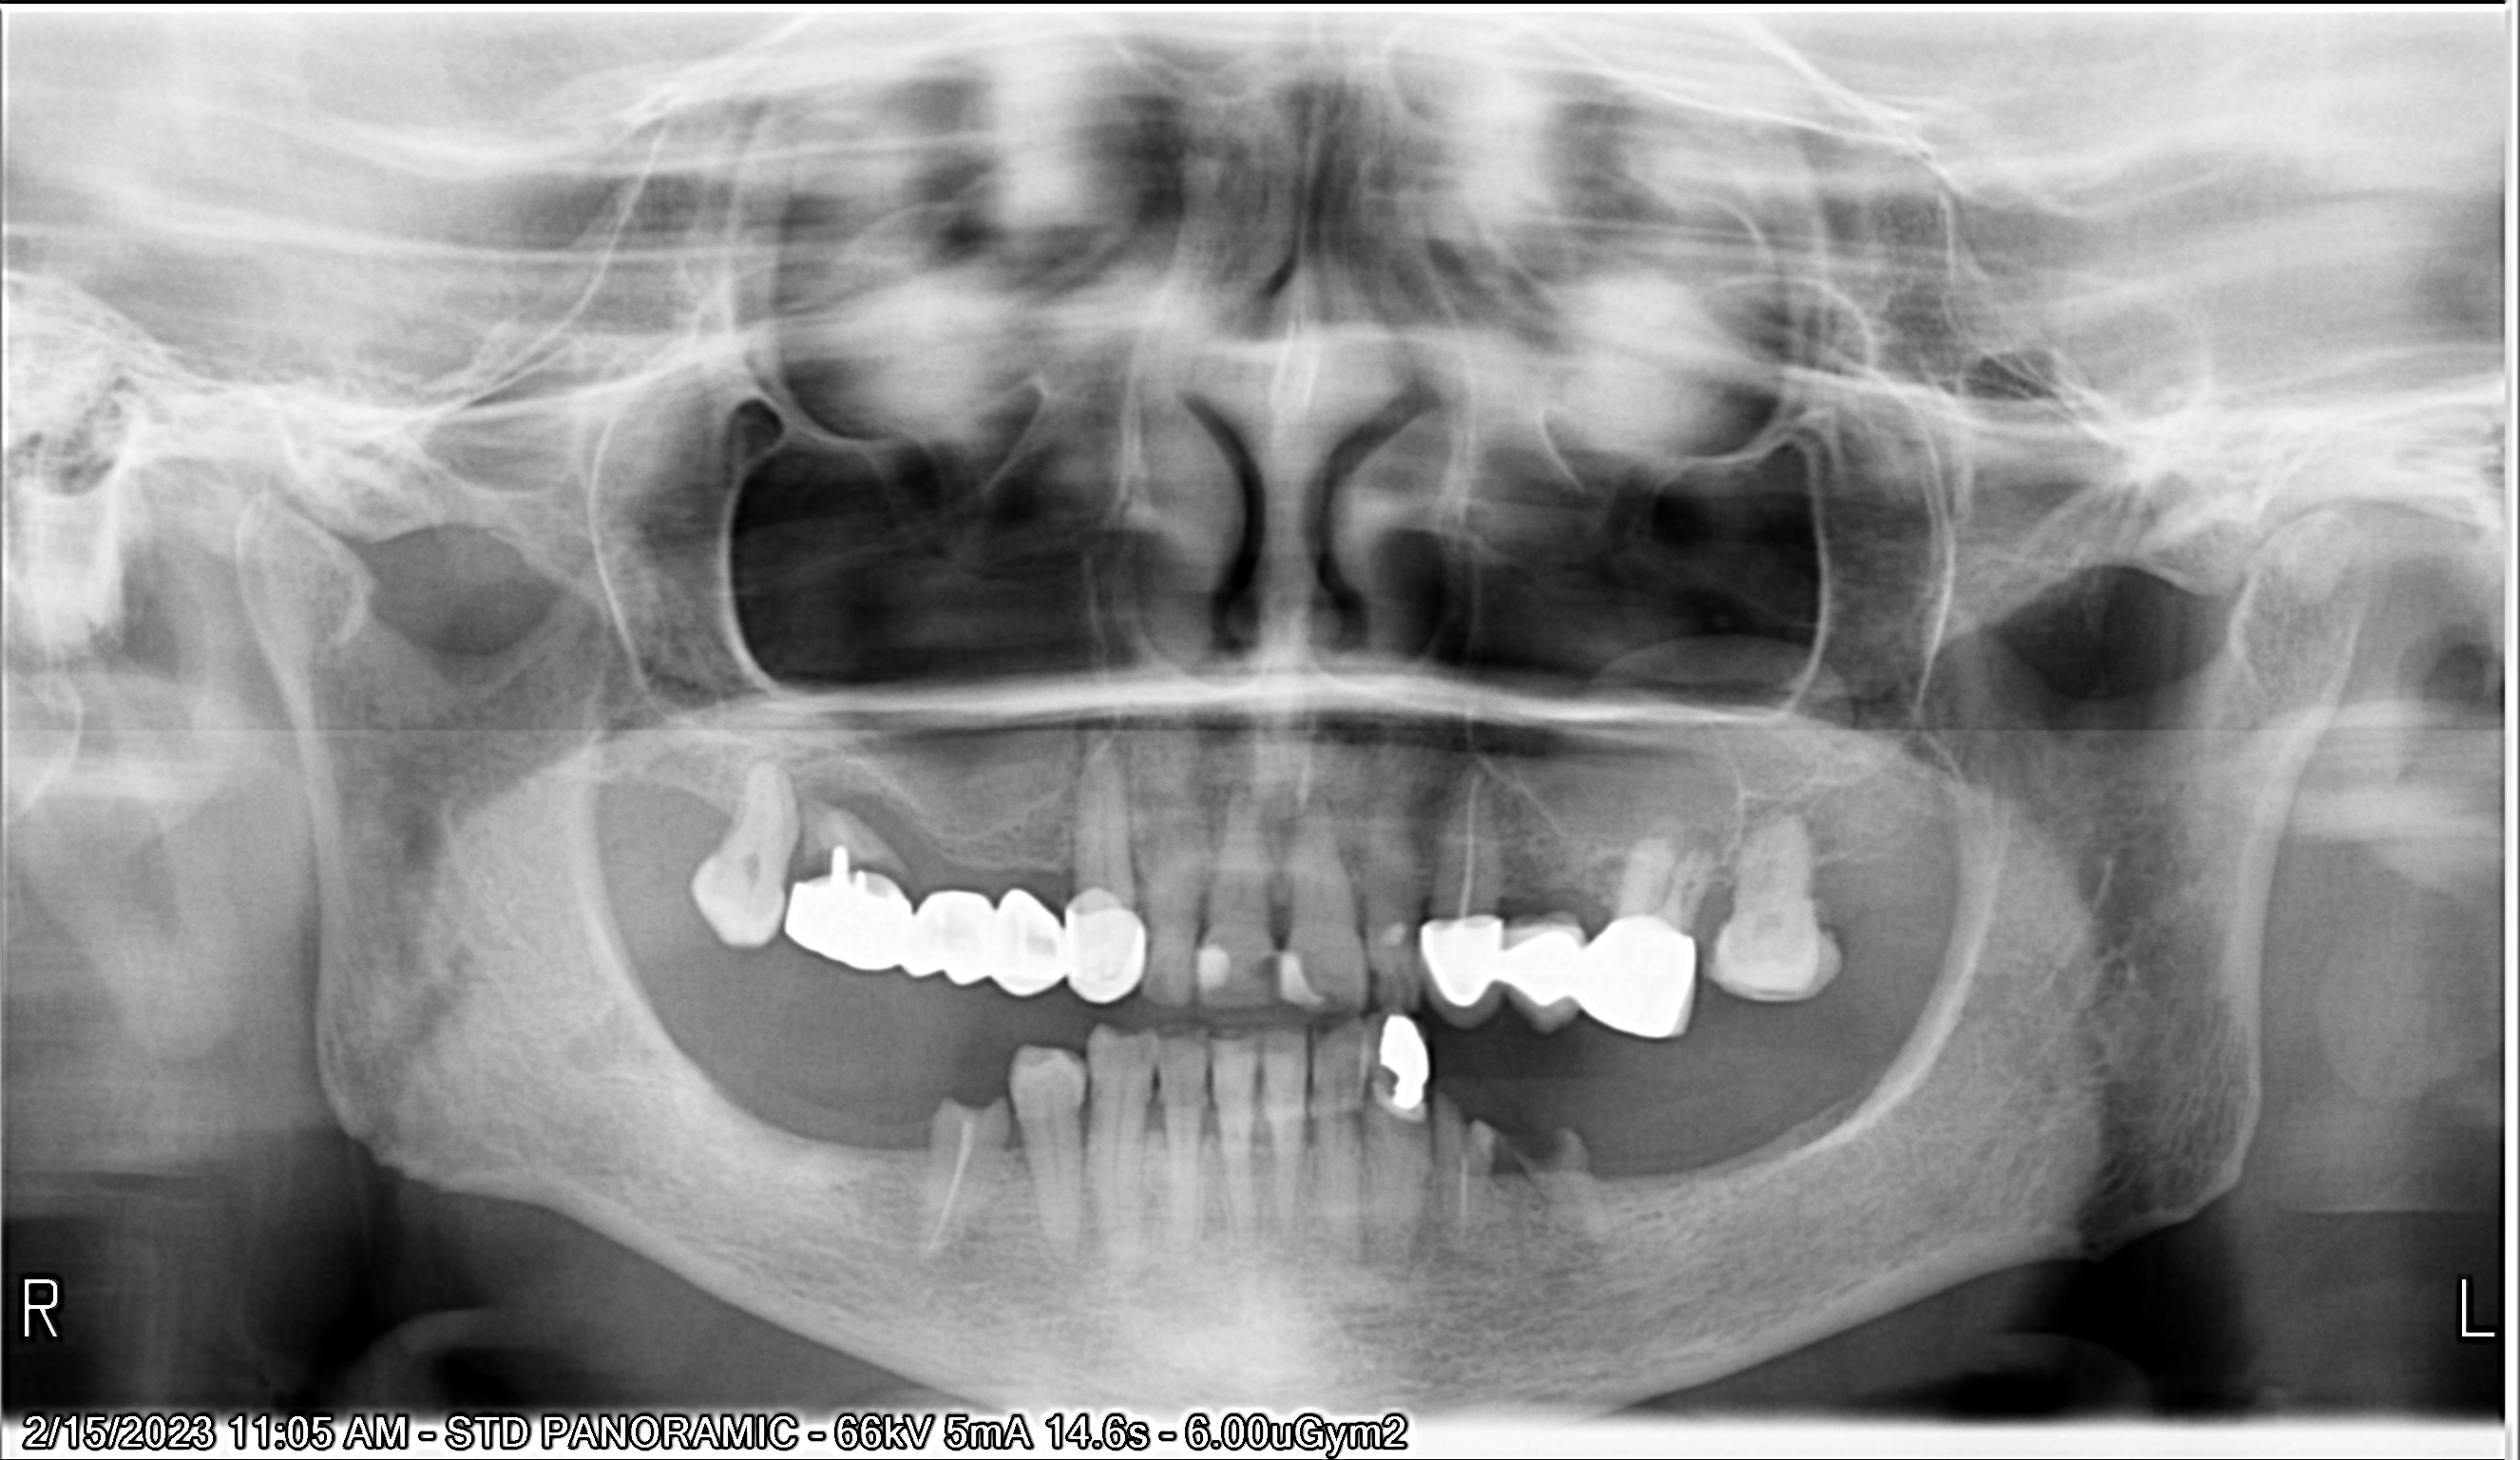BON: (827, 773, 953, 867), (1785, 853, 1860, 933), (1683, 859, 1756, 939), (1287, 1088, 1342, 1173), (1231, 1081, 1280, 1171), (1127, 1088, 1174, 1171), (1184, 1088, 1230, 1168), (1256, 873, 1303, 946)
END: (920, 1111, 978, 1253), (1448, 763, 1492, 925), (1440, 1154, 1480, 1248), (825, 829, 872, 904)
OBT: (1372, 1006, 1431, 1116), (1268, 939, 1332, 1025), (1186, 933, 1233, 1005)
PRR: (1422, 912, 1705, 1050), (778, 871, 1054, 1005), (1047, 881, 1158, 1012)
ROT: (905, 1076, 1009, 1253), (1504, 1125, 1622, 1253), (1426, 1086, 1495, 1264)
